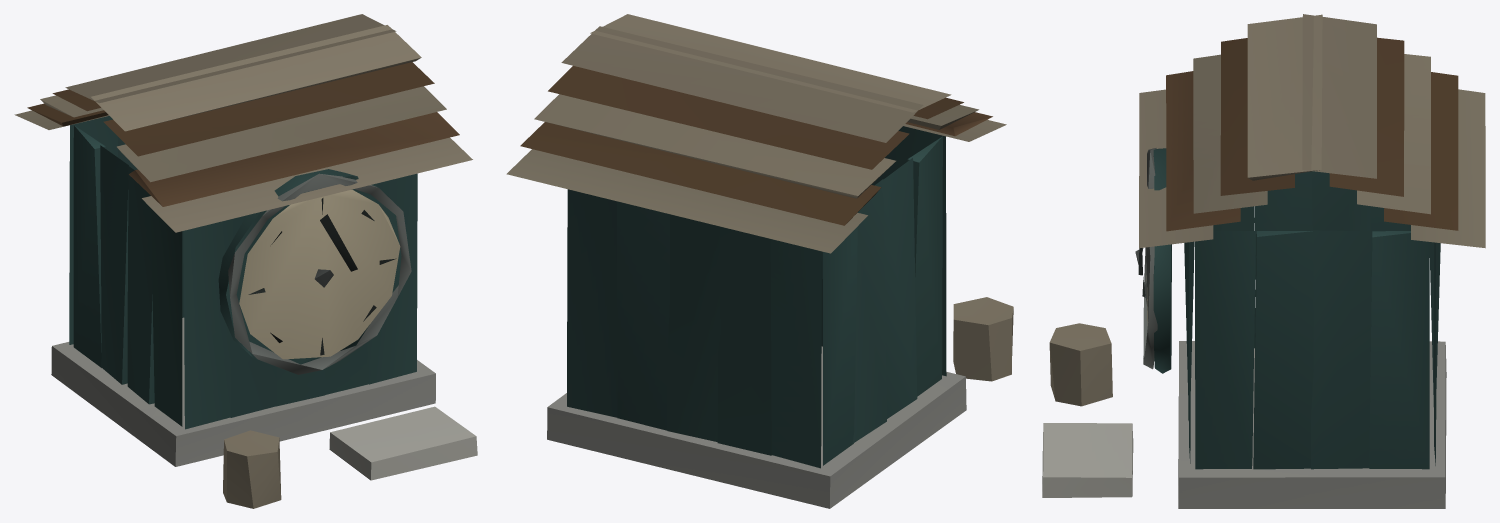
The model's file is gauge_dial_shed_a_lod2.glb.
3 views of the same model, side by side, from view 1: azimuth 30°, elevation 25°; view 2: azimuth 150°, elevation 25°; view 3: azimuth 270°, elevation 25° (orthographic). The views are drawn at different scales.
Parts seen in each view (by area): view 1: Surface.001; view 2: Surface.001; view 3: Surface.001.
Boxes of the visible parts, box(x1,y1,x2,y2) form: Surface.001: box(14, 14, 477, 508); Surface.001: box(506, 14, 1013, 508); Surface.001: box(1042, 14, 1485, 508).
Size of the model in its own units: 2.71 by 2.86 by 3.26.
